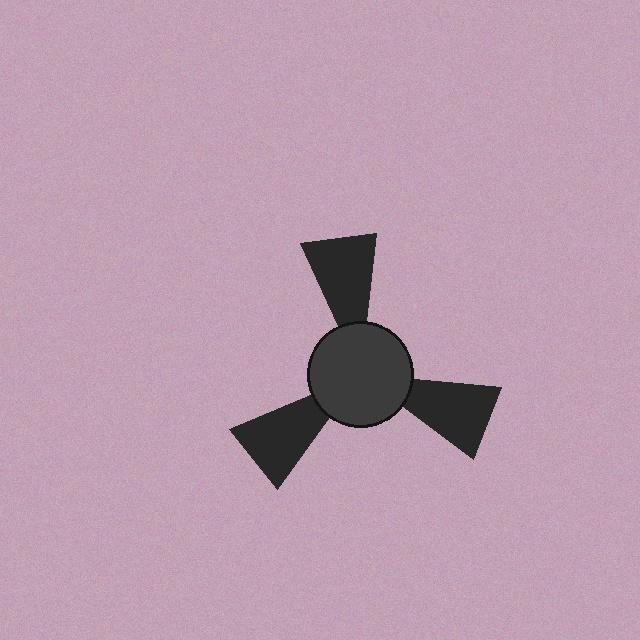fan: (193, 207, 527, 541)
